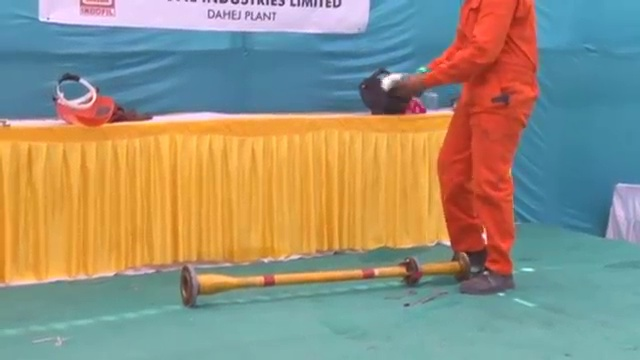person: (379, 1, 540, 294)
